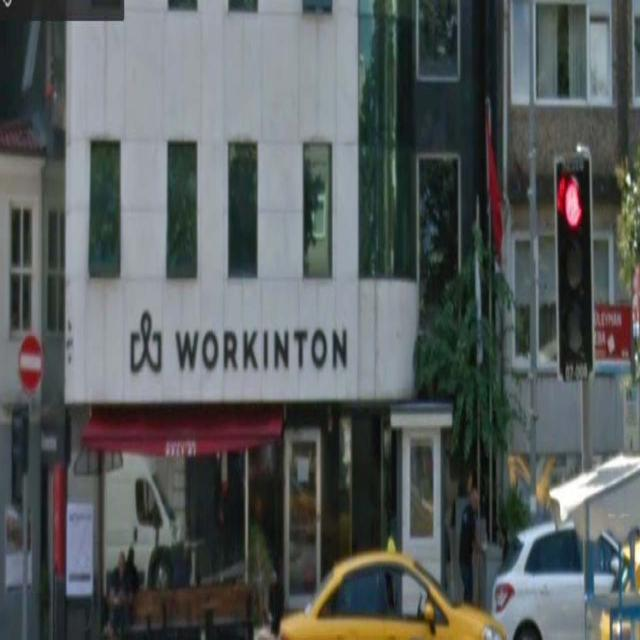girisyok: (18, 331, 44, 394)
kirmizi: (557, 158, 589, 378)
